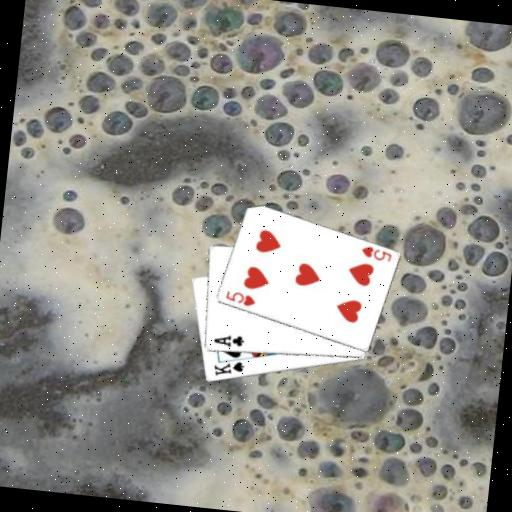5H: (357, 242, 394, 264), (222, 287, 258, 309)
AC: (210, 331, 246, 351)
KS: (210, 356, 247, 381)
